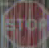Stop: (2, 0, 44, 47)
